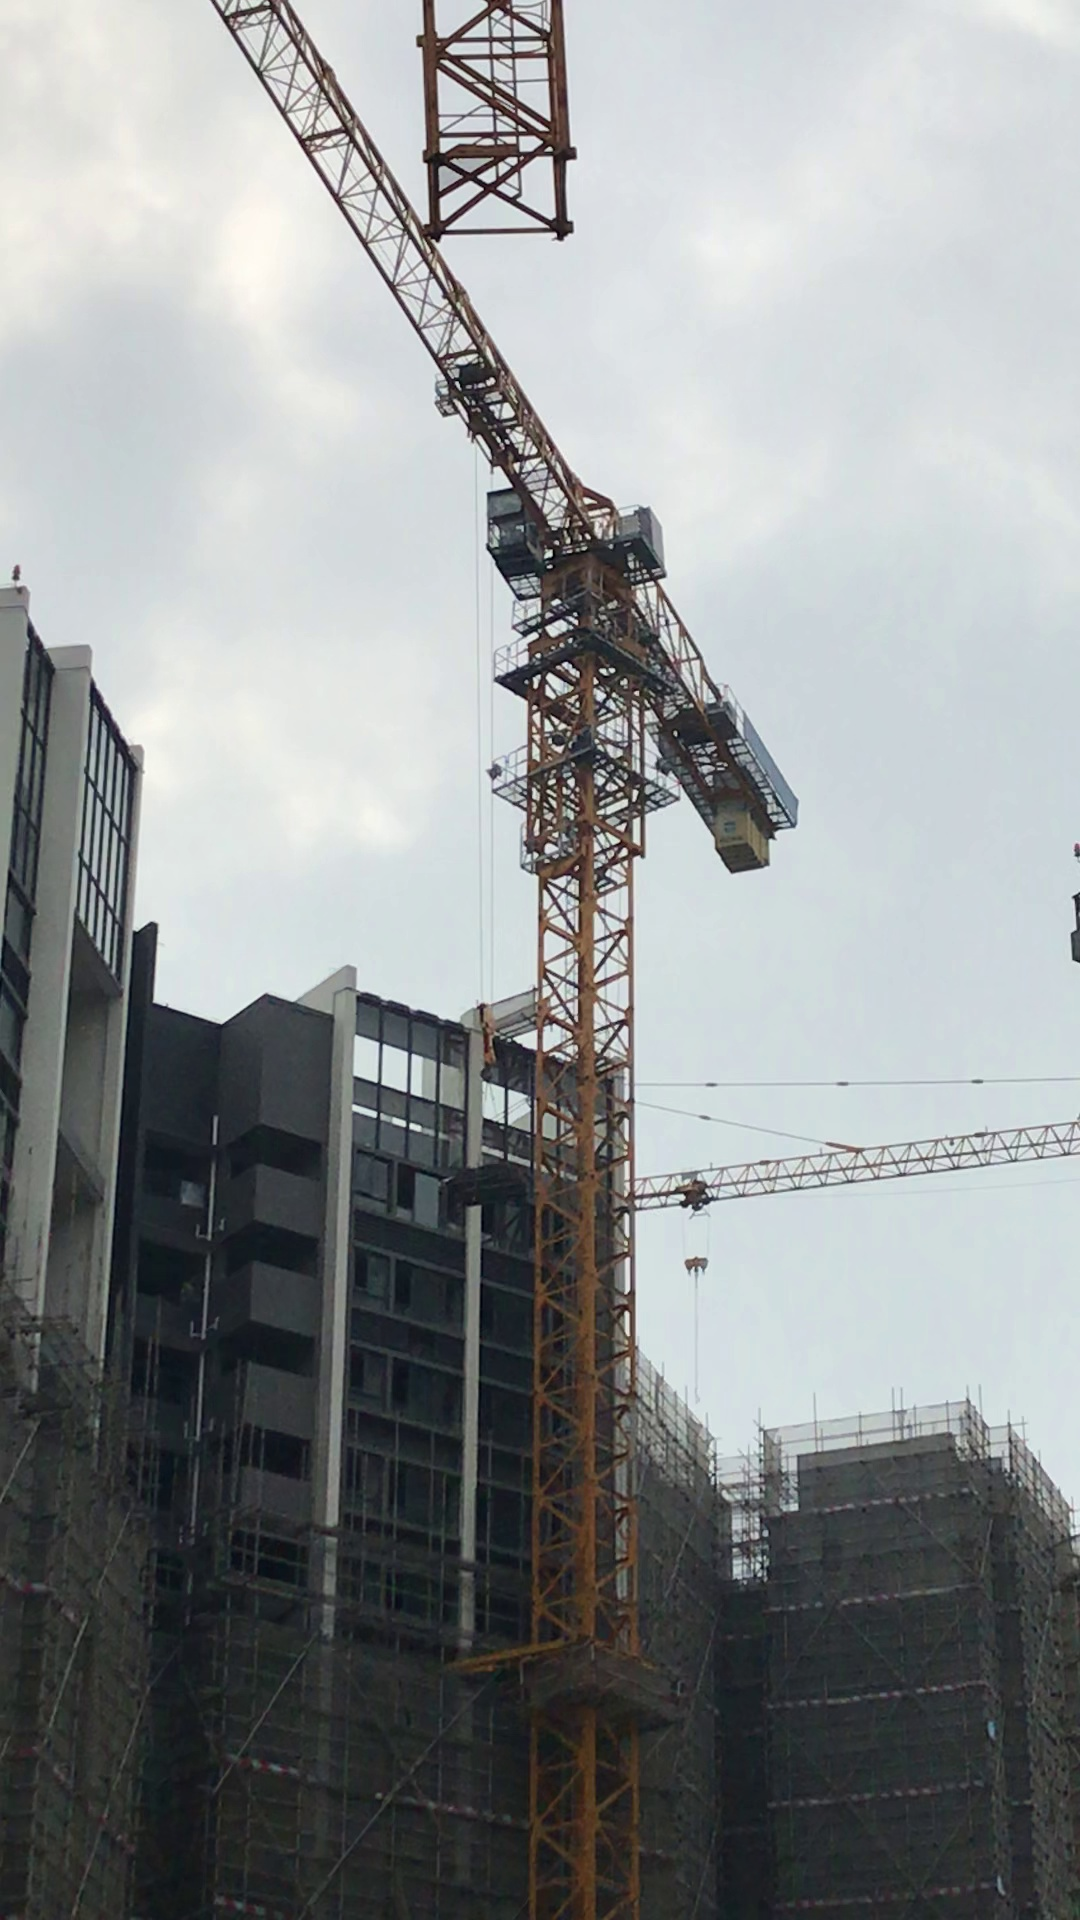hook: (472, 1000, 504, 1083), (682, 1254, 713, 1282)
slogan: (745, 716, 798, 825)
